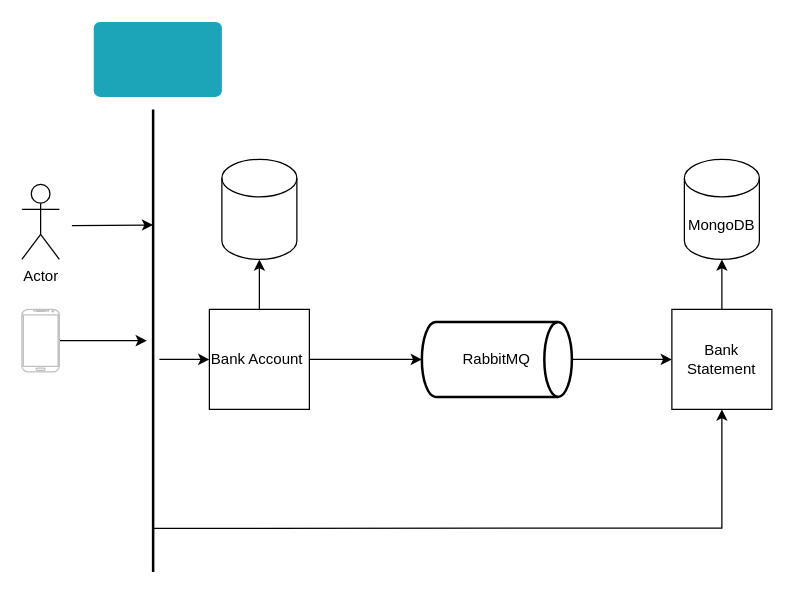
The diagram is 794 pixels wide and 594 high, and some of its shapes have lost their labels. Here are the shapes that lost their labels. From the top down, the centre of each, then its label:
pixel 157 58: Api GATEWAY
pixel 259 208: Postgres
